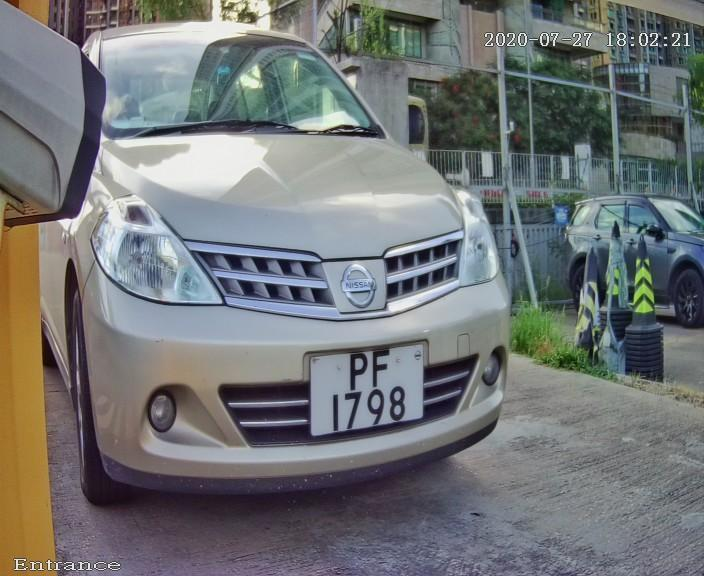privatecar: (38, 26, 547, 515)
